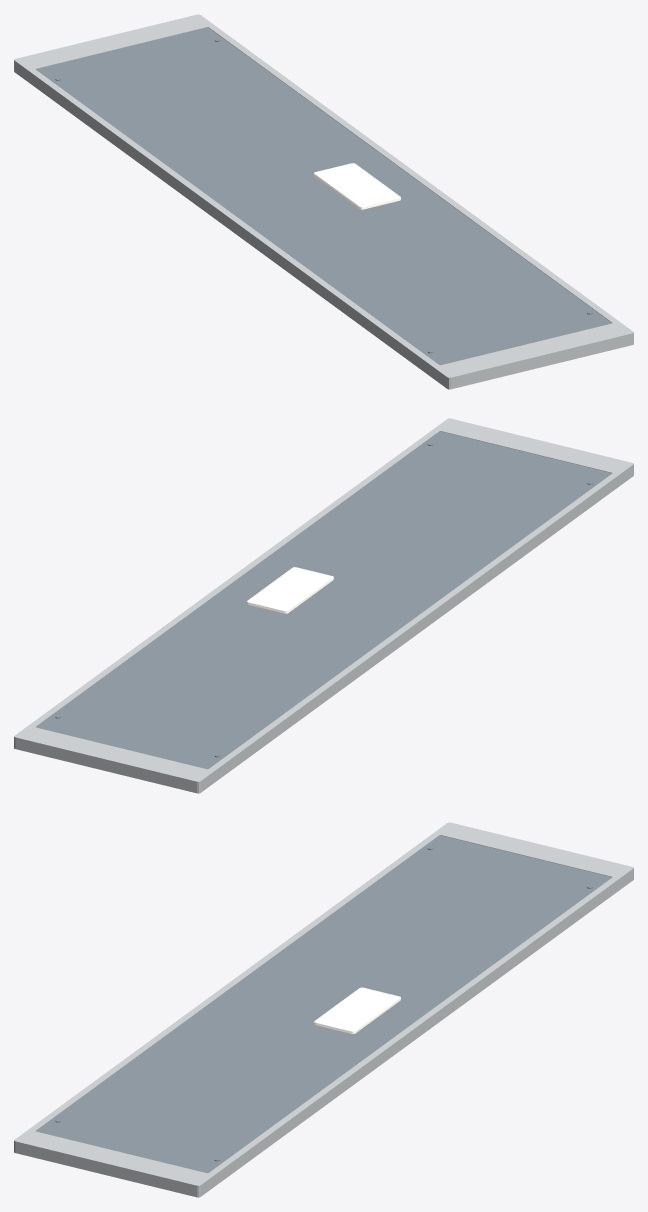
The model's file is source.glb.
3 renders of one model, top to bottom at view 1: azimuth 30°, elevation 25°; view 2: azimuth 150°, elevation 25°; view 3: azimuth 330°, elevation 25°, orthographic.
Visible parts, largest first — view 1: 机加工金属, 粉末涂层铝壳, Emitters; view 2: 机加工金属, 粉末涂层铝壳, Emitters; view 3: 机加工金属, 粉末涂层铝壳, Emitters.
Part boxes in pixels (left/top/right/bottom): 机加工金属: left=36, top=27, right=611, bottom=365; 粉末涂层铝壳: left=14, top=14, right=633, bottom=389; Emitters: left=314, top=163, right=400, bottom=209; 机加工金属: left=36, top=431, right=611, bottom=769; 粉末涂层铝壳: left=14, top=418, right=633, bottom=793; Emitters: left=247, top=567, right=333, bottom=613; 机加工金属: left=36, top=835, right=611, bottom=1173; 粉末涂层铝壳: left=14, top=822, right=633, bottom=1197; Emitters: left=314, top=987, right=400, bottom=1033.
Bounding box in the file's own units: 0.295 × 0.0277 × 1.2.
